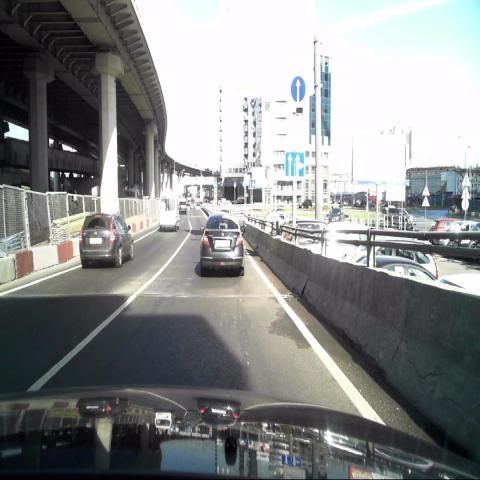5_15_2_2: (284, 150, 304, 180)
